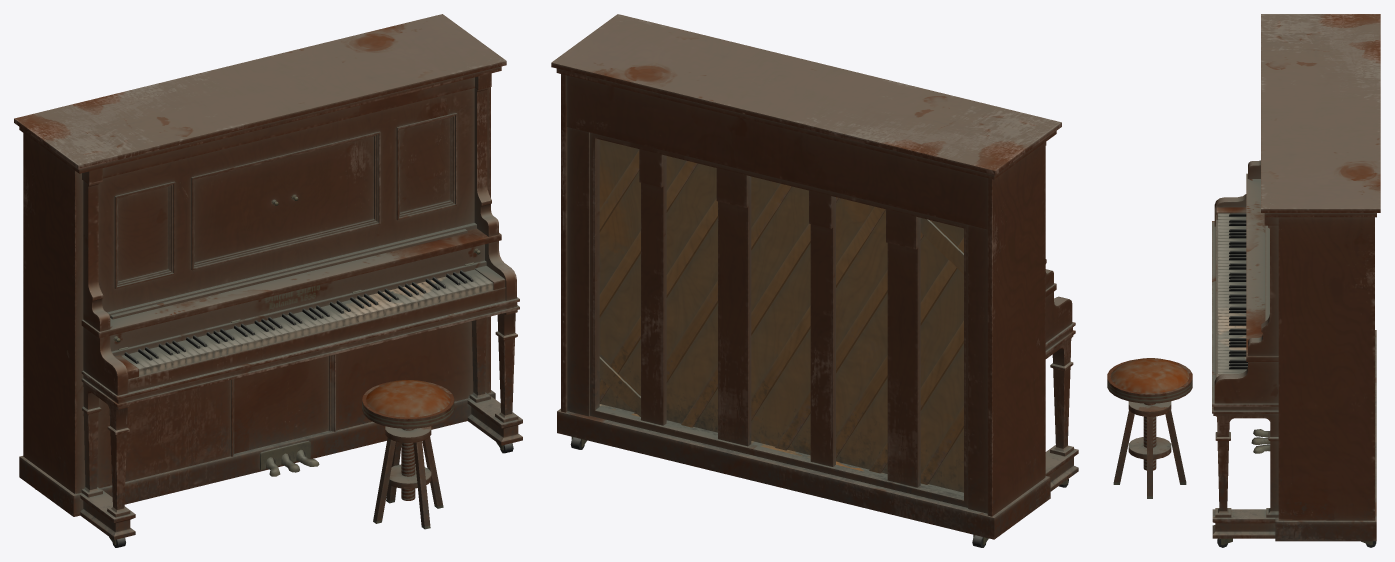
3 views of the same model, side by side, from view 1: azimuth 30°, elevation 25°; view 2: azimuth 150°, elevation 25°; view 3: azimuth 270°, elevation 25° (orthographic). The views are drawn at different scales.
Parts seen in each view (by area): view 1: LP_Piano, LP_Stool_MAT_Piano_0; view 2: LP_Piano; view 3: LP_Piano, LP_Stool_MAT_Piano_0.
Boxes of the visible parts, bbox=[...] form: LP_Piano: bbox=[14, 14, 522, 547]; LP_Stool_MAT_Piano_0: bbox=[362, 380, 454, 529]; LP_Piano: bbox=[551, 14, 1078, 547]; LP_Piano: bbox=[1212, 14, 1380, 547]; LP_Stool_MAT_Piano_0: bbox=[1107, 358, 1192, 498].
Bounding box in the file's own units: 1.52 × 1.26 × 0.9027.
Materials: 1 (1 with a texture image).
